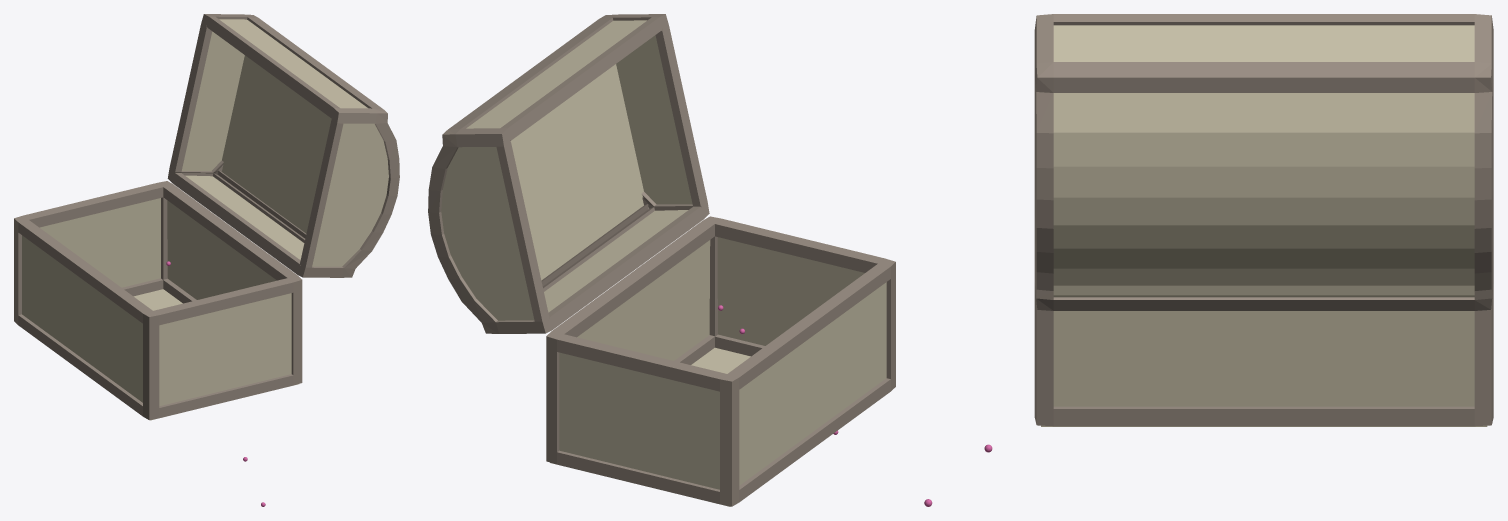
File: chest.fbx
3 renders of one model, left to right at view 1: azimuth 30°, elevation 25°; view 2: azimuth 150°, elevation 25°; view 3: azimuth 270°, elevation 25°, orthographic. The views are drawn at different scales.
Parts seen in each view (by area): view 1: Box001, $$$DUMMY.Group01, Box002; view 2: Box001, $$$DUMMY.Group01, Box002; view 3: Box002, $$$DUMMY.Group01, Box001.
Boxes of the visible parts, left/top/right/bottom form: Box001: left=22, top=198, right=298, bottom=420; $$$DUMMY.Group01: left=14, top=14, right=399, bottom=420; Box002: left=182, top=19, right=388, bottom=266; Box001: left=550, top=237, right=886, bottom=506; $$$DUMMY.Group01: left=428, top=14, right=895, bottom=506; Box002: left=441, top=20, right=692, bottom=320; Box002: left=1053, top=25, right=1474, bottom=297; $$$DUMMY.Group01: left=1034, top=14, right=1493, bottom=426; Box001: left=1041, top=311, right=1487, bottom=426.
Bounding box in the file's own units: 6.14 × 8.02 × 7.11.
